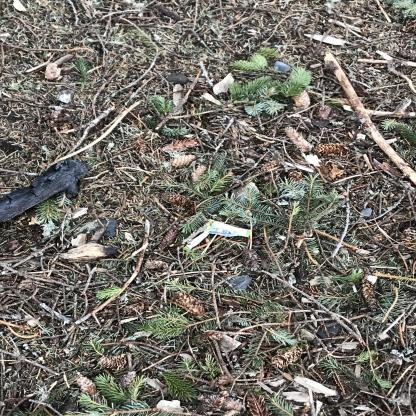Other plastic: (182, 218, 252, 252)
